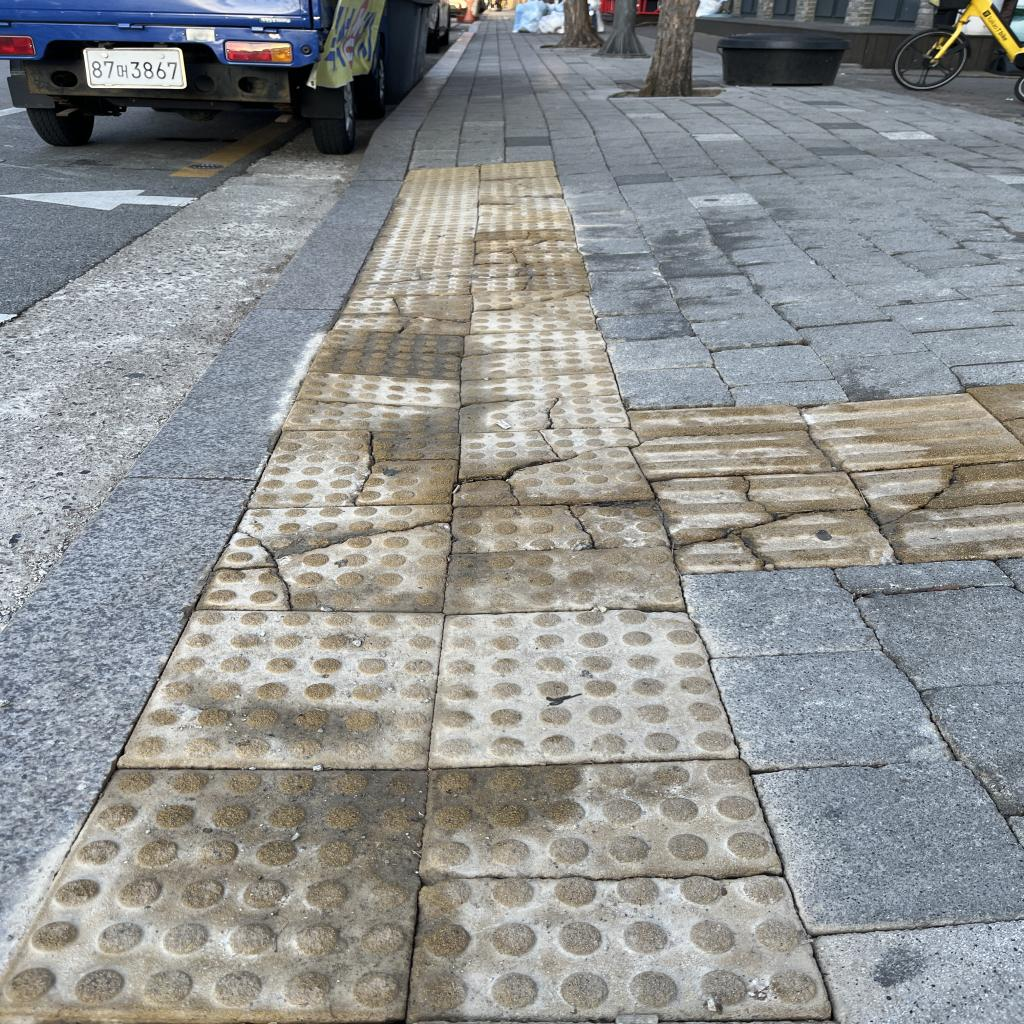Stop block broken: (410, 760, 830, 1019), (196, 507, 451, 613), (442, 501, 681, 614), (248, 428, 461, 507), (452, 427, 653, 505), (282, 372, 459, 438), (458, 373, 628, 433), (460, 328, 610, 379), (310, 330, 462, 379), (470, 289, 596, 333), (333, 294, 471, 334), (349, 267, 473, 297), (472, 262, 591, 292), (475, 239, 581, 264)
Stop block normal: (1, 769, 426, 1017), (425, 604, 738, 769), (121, 611, 442, 767), (363, 243, 475, 269)
Straight block broken: (655, 470, 898, 574), (629, 402, 830, 479)
Straight block normal: (802, 390, 1024, 471)
